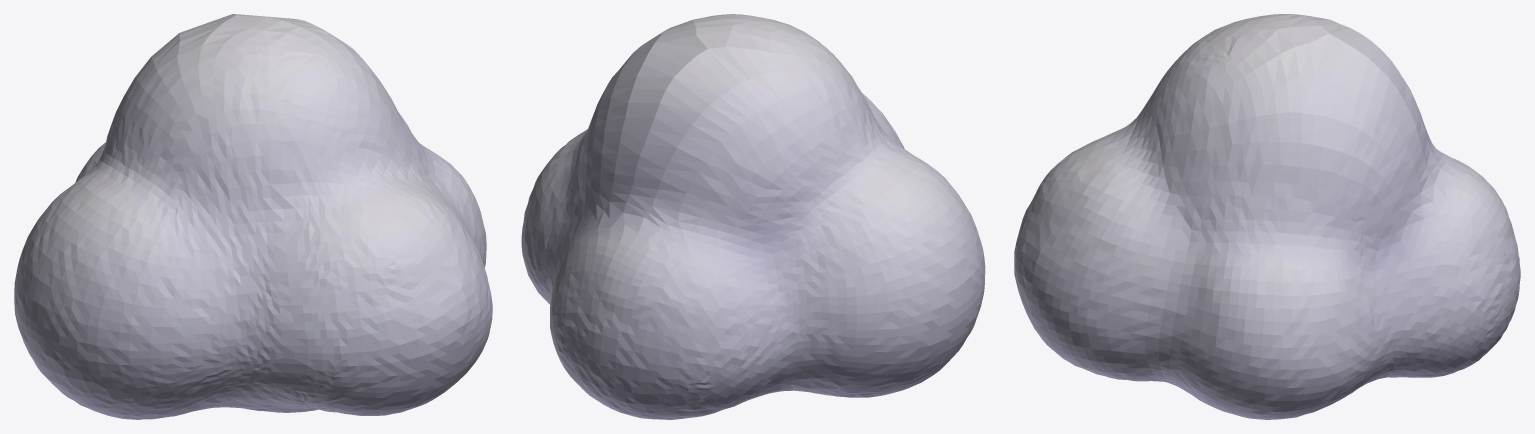
File: cloud.glb
The picture shows the model from 3 angles, left to right: view 1: azimuth 30°, elevation 25°; view 2: azimuth 150°, elevation 25°; view 3: azimuth 270°, elevation 25°; orthographic projection. The views are drawn at different scales.
Parts seen in each view (by area): view 1: tripo_node_d7ee9e95-9128-4c68-9550-0ae4021a9326; view 2: tripo_node_d7ee9e95-9128-4c68-9550-0ae4021a9326; view 3: tripo_node_d7ee9e95-9128-4c68-9550-0ae4021a9326.
Boxes of the visible parts, x1,y1,x2,y2 form: tripo_node_d7ee9e95-9128-4c68-9550-0ae4021a9326: (14,14,492,419); tripo_node_d7ee9e95-9128-4c68-9550-0ae4021a9326: (521,14,985,419); tripo_node_d7ee9e95-9128-4c68-9550-0ae4021a9326: (1014,14,1520,419).
Size of the model in its own units: 0.9843 by 0.7631 by 0.9999.
1 material, 1 textured.
